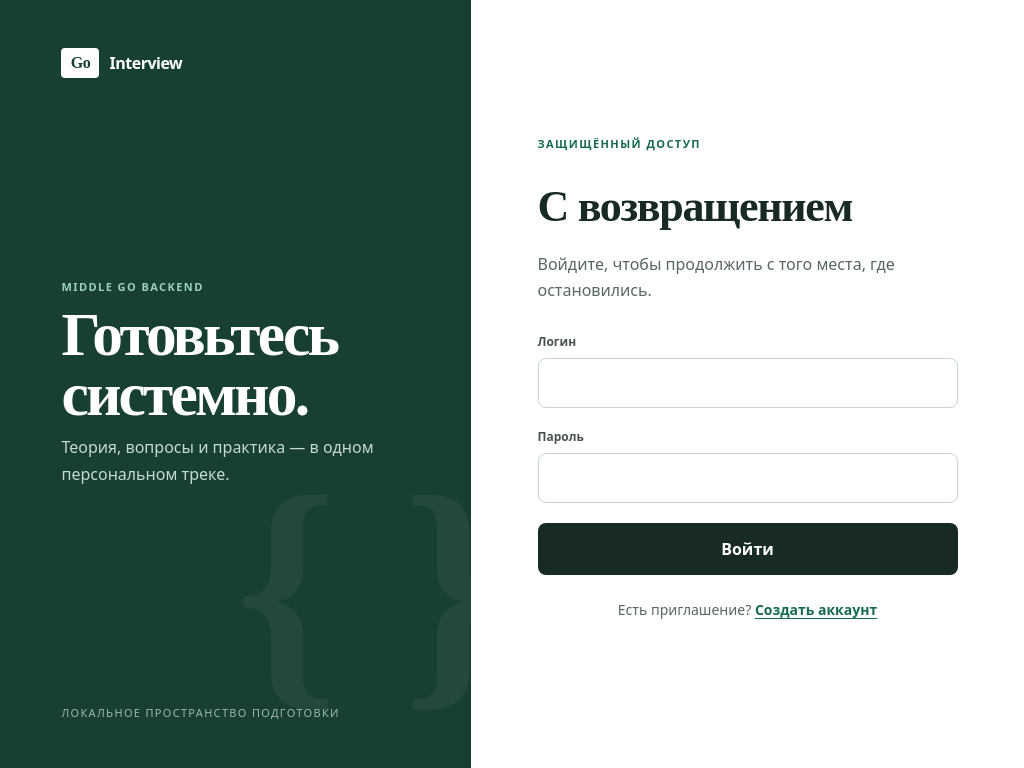
Test case: authenticates before opening the protected catalog
The width and height of the screenshot is (1024, 768).
Check: the heading "С возвращением" is shown, box [538,182,852,231]
Type "fedor" into the field labelled "Логин" at (748, 383), box [538,358,958,408]
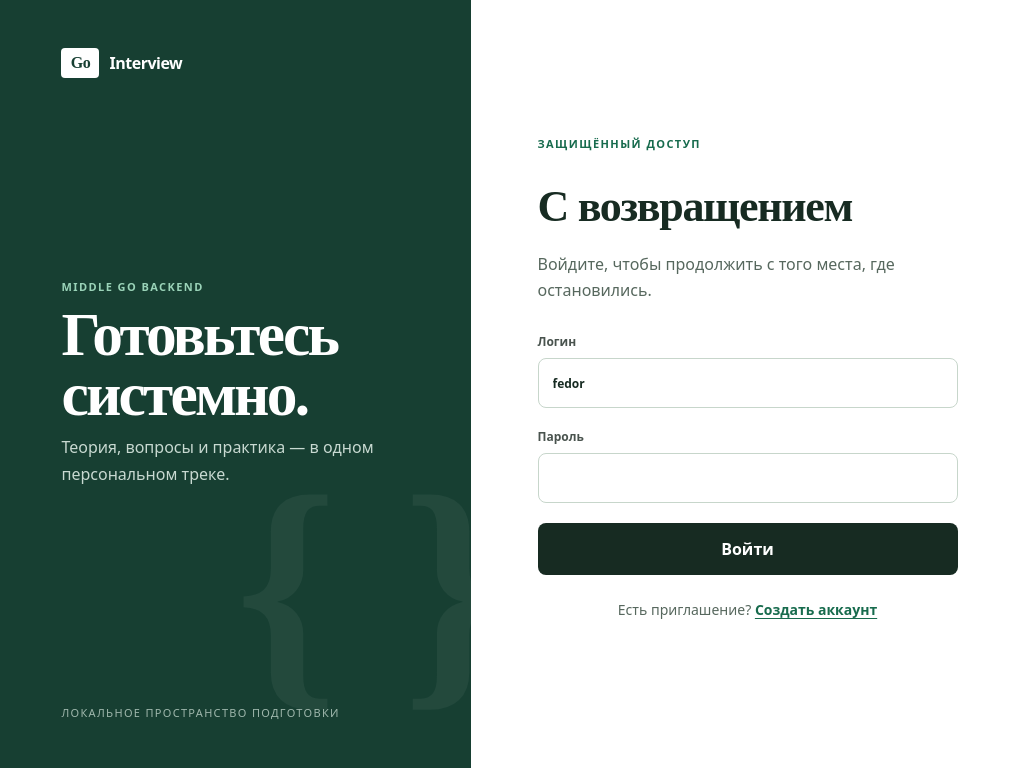
Type "secret-password" into the password field labelled "Пароль" at (748, 478), box [538,453,958,503]
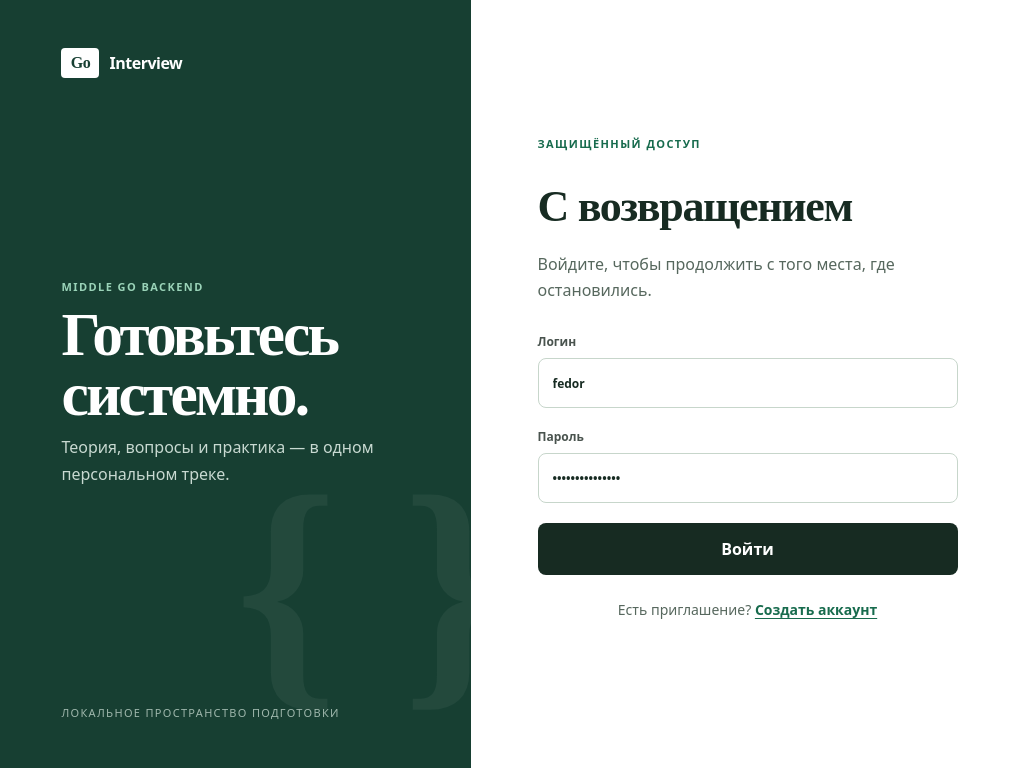
Click the button "Войти" at (748, 549), box [538,523,958,575]
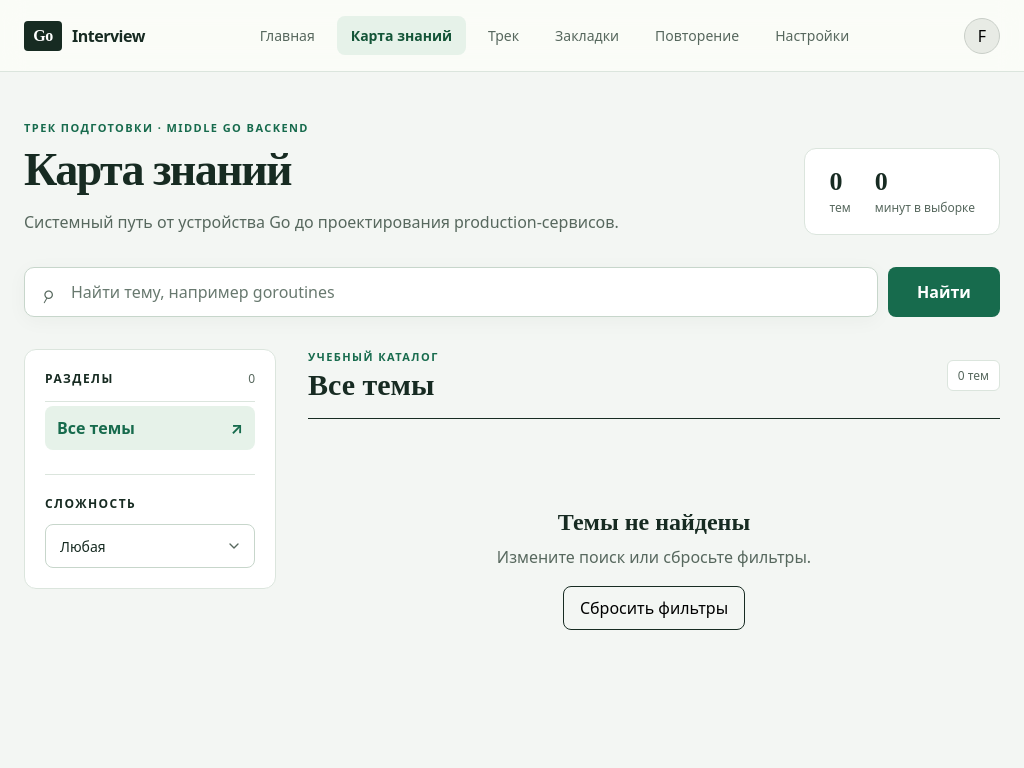
Check: the heading "Карта знаний" is shown, box [24,144,291,195]
